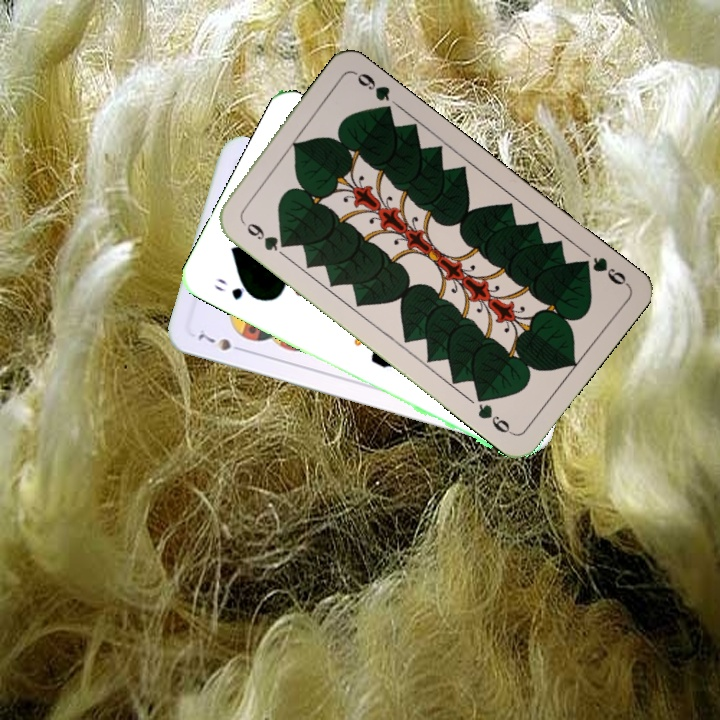G9: (237, 216, 291, 258), (574, 252, 631, 288)
GO: (211, 273, 262, 303)
S7: (191, 327, 248, 355)
